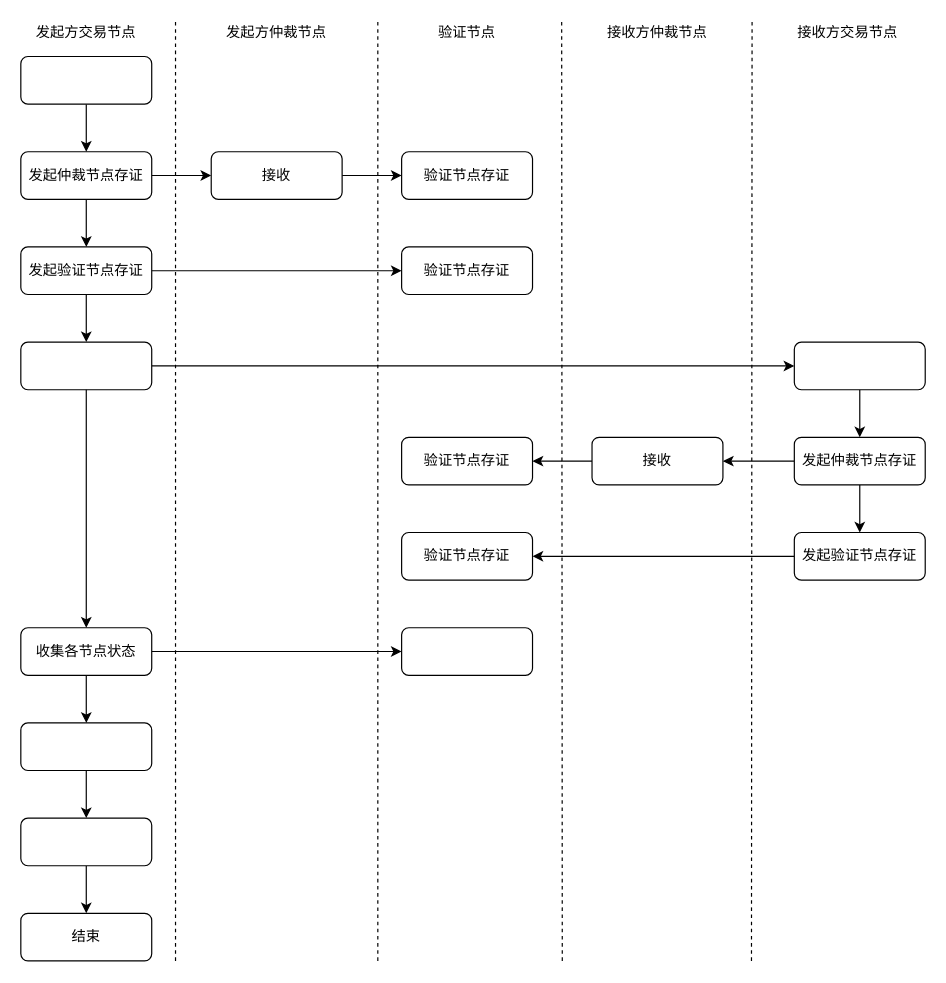
Some shapes in this 946 by 983 pixel diagram are drawn without their labels. Each missing label, with the centre of its shape:
发给接收方交易节点: (x=86, y=365)
变更状态为 send: (x=86, y=79)
接收交易: (x=859, y=365)
更新状态为 finish: (x=86, y=746)
生成ACK: (x=86, y=841)
获取状态: (x=466, y=651)
